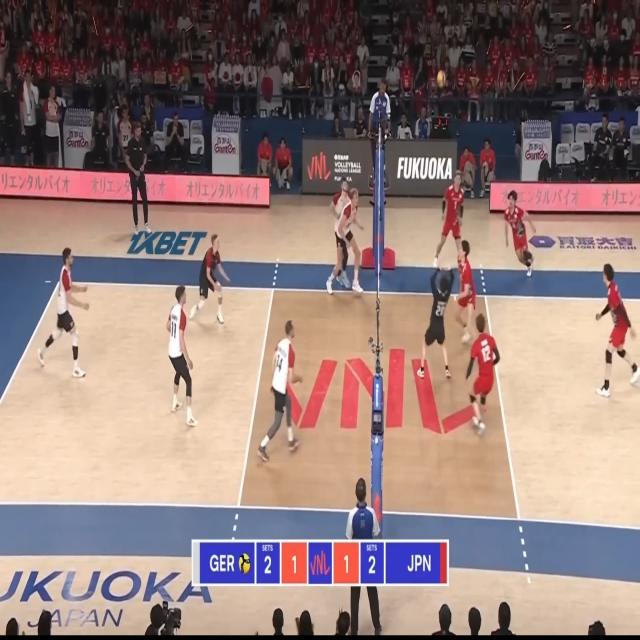ball: (438, 70, 446, 88)
